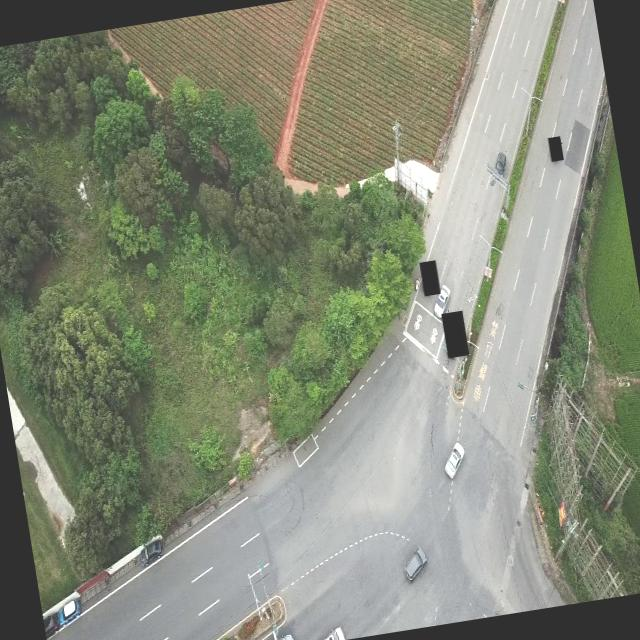car: (441, 441, 468, 480), (402, 546, 431, 582), (137, 533, 167, 567), (56, 598, 86, 628), (430, 283, 454, 319), (42, 609, 61, 640), (492, 150, 508, 177), (319, 625, 346, 640), (264, 631, 296, 640)
